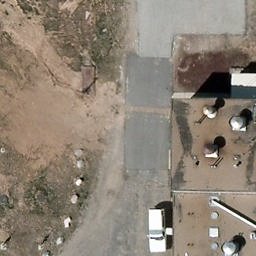car: (148, 208, 170, 253)
